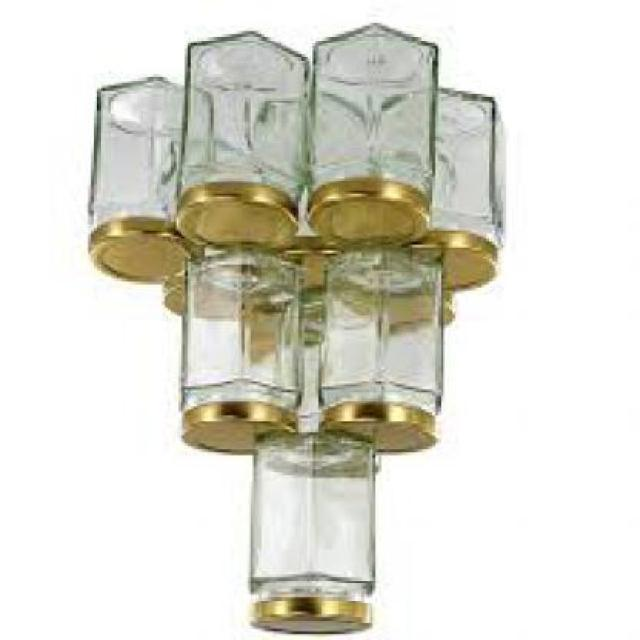GLASS: (312, 26, 438, 205), (250, 435, 381, 603), (324, 247, 444, 418), (185, 39, 313, 199), (182, 252, 304, 416), (92, 82, 193, 236), (435, 85, 503, 250), (304, 296, 327, 432)
METAL: (178, 188, 304, 262), (310, 182, 433, 247), (94, 222, 201, 287), (188, 409, 302, 458), (410, 234, 501, 295), (267, 432, 378, 481), (330, 406, 438, 456), (252, 594, 374, 638), (358, 284, 456, 333), (244, 312, 330, 358), (264, 244, 336, 293)
